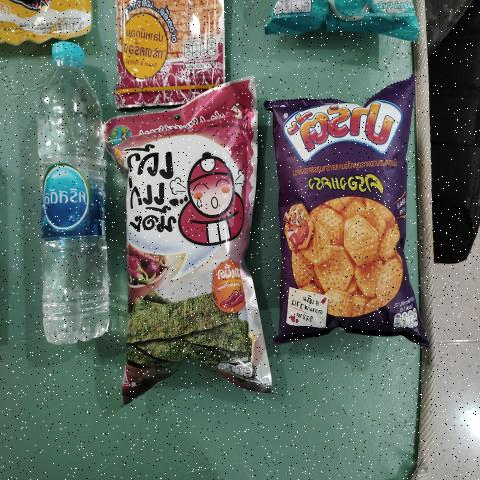crystal: (35, 38, 104, 354)
party_purple: (286, 97, 407, 331)
taokaenoi: (124, 114, 232, 354)
